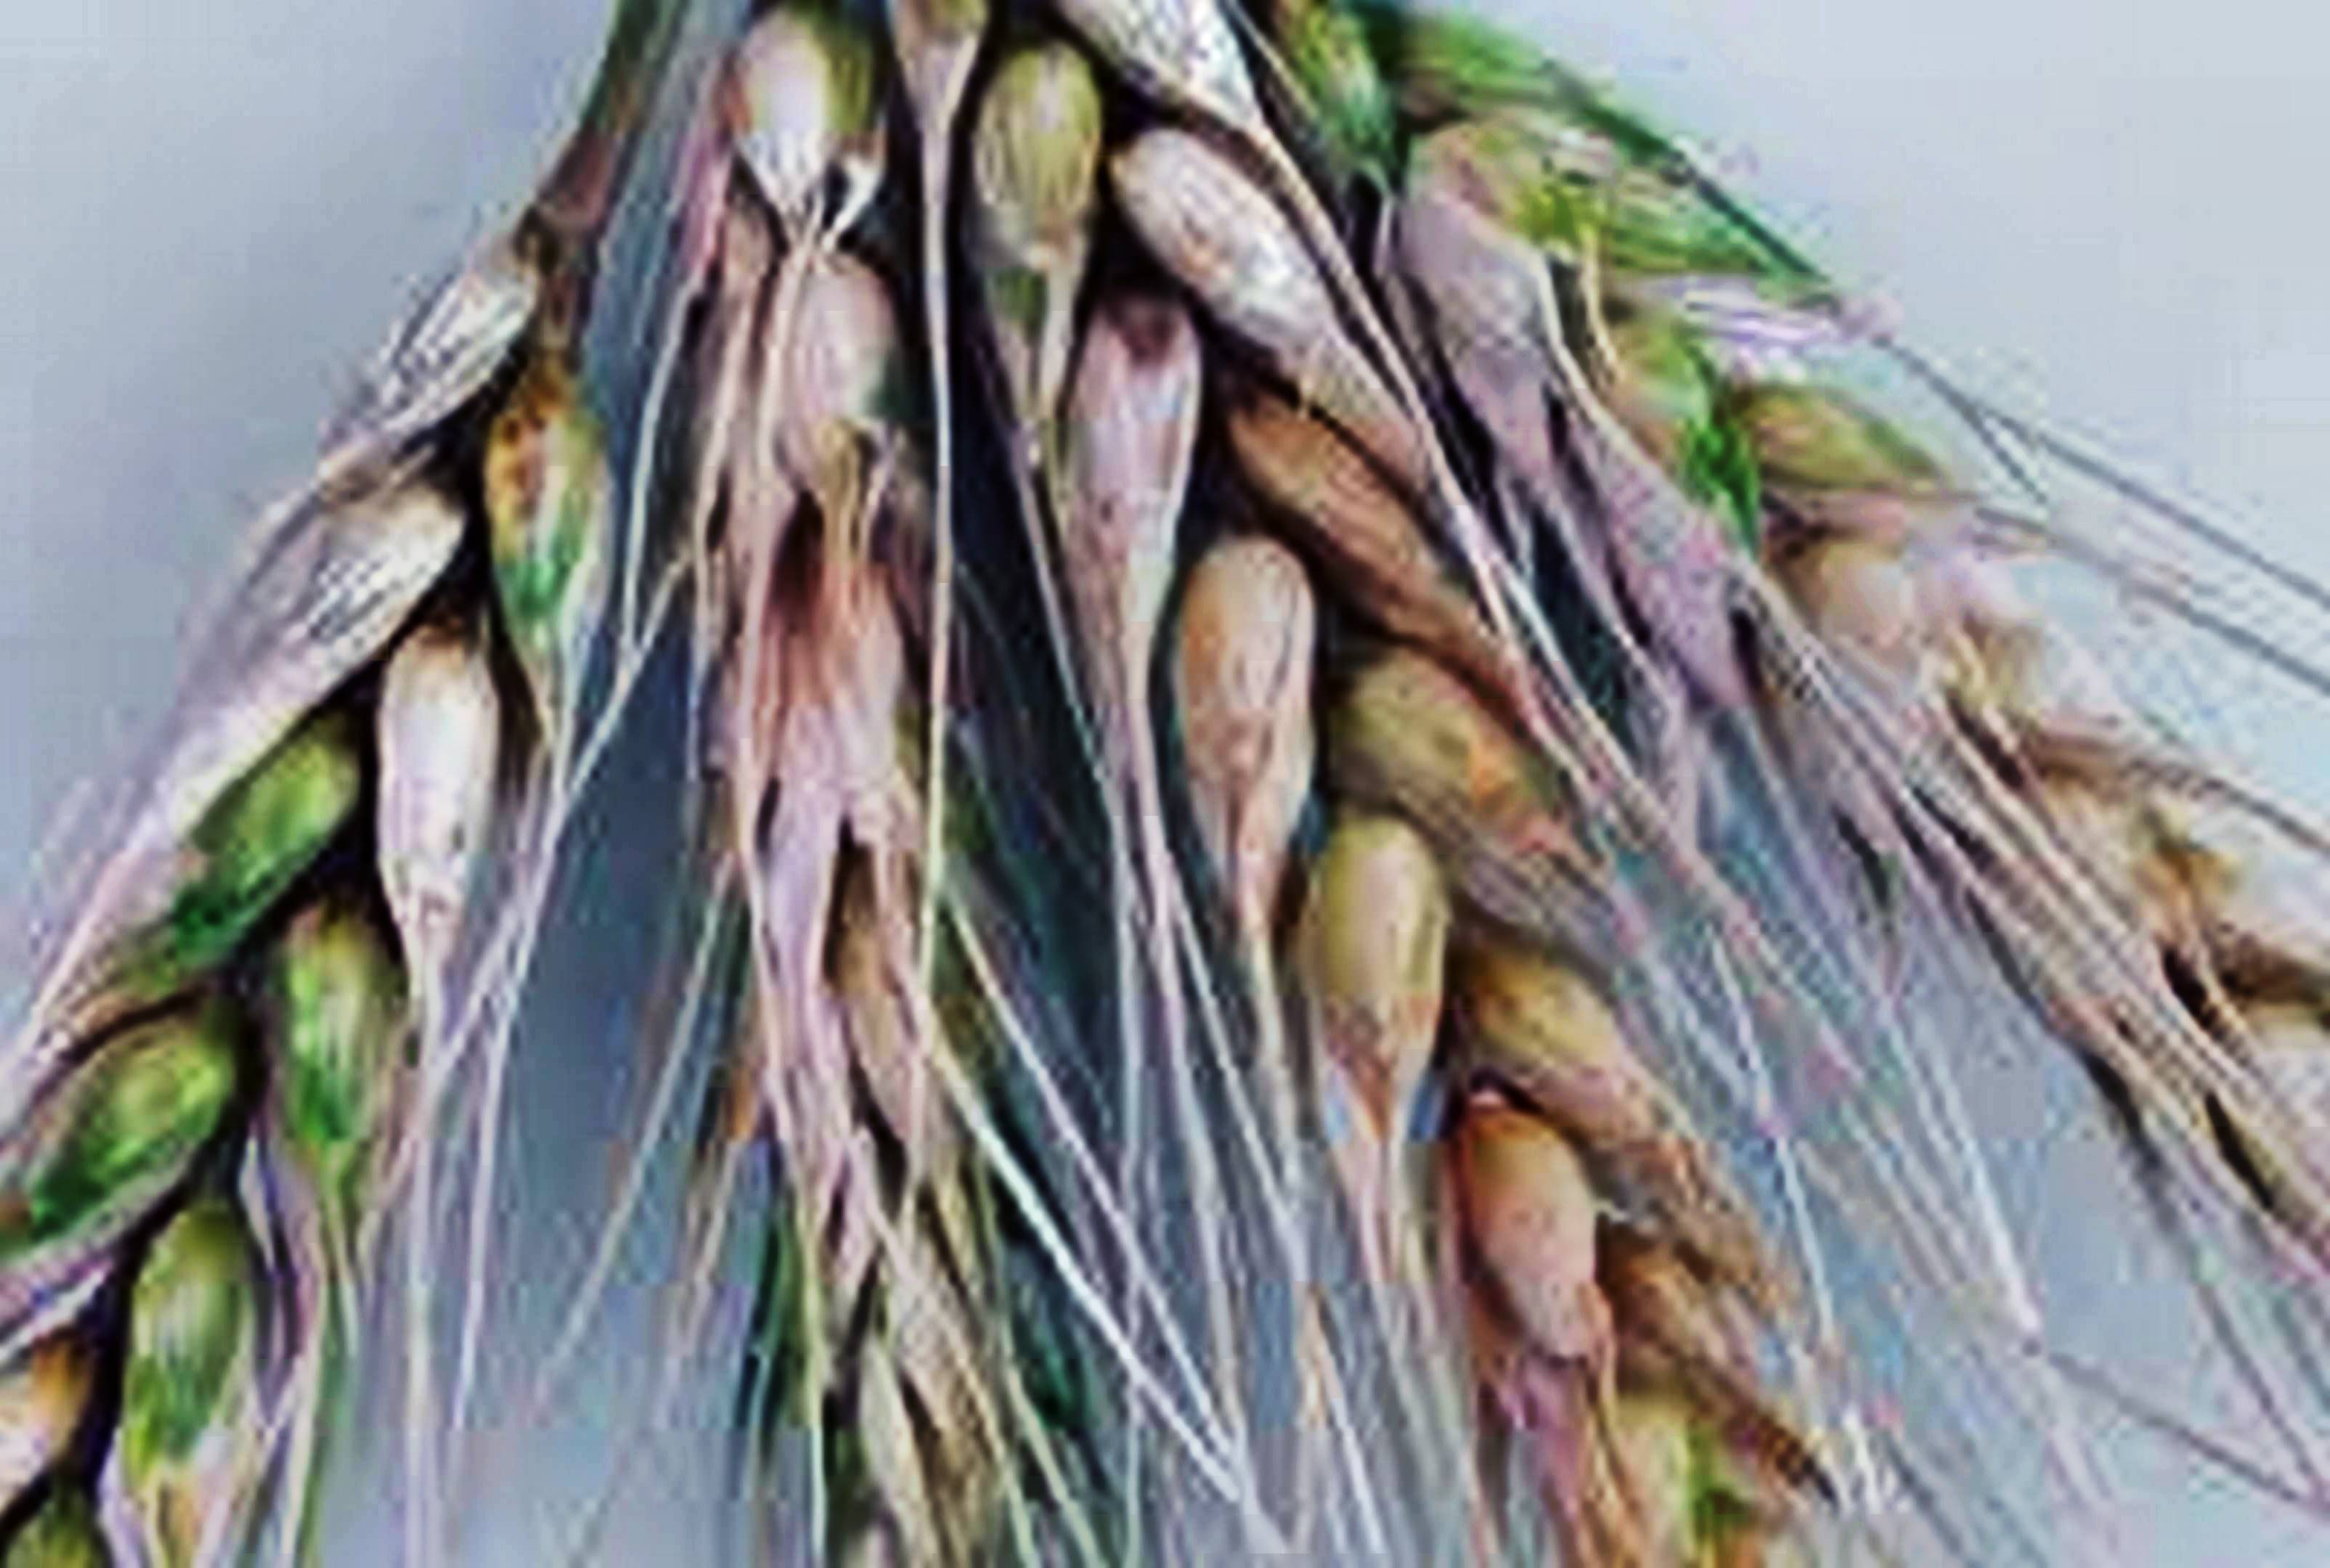Wheat scab: (89, 68, 903, 1437), (1285, 28, 2330, 1080)
